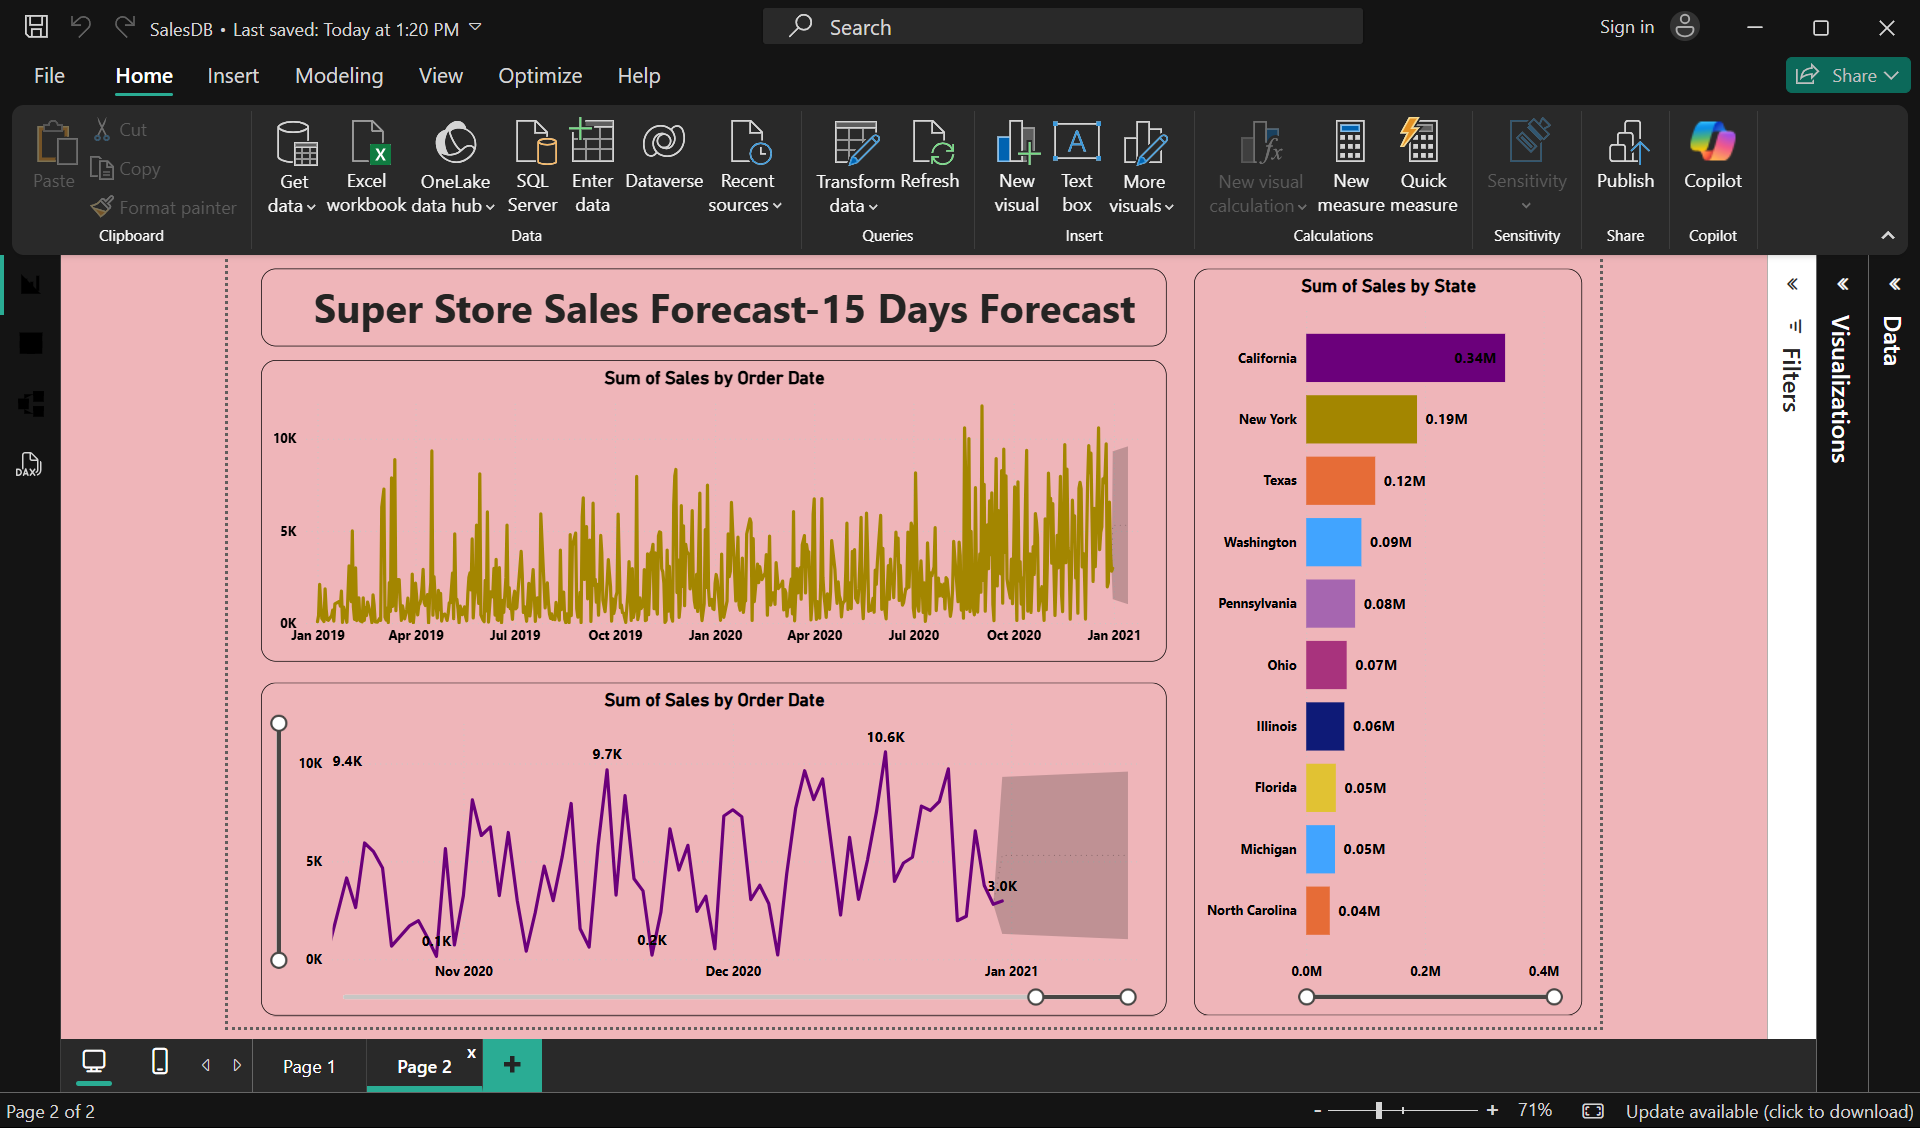

Layout of this report page (visuals, bound fields, positions):
{"tool":"powerbi","page":{"name":"Page 2","canvas":[1280,720],"ordinal":1},"visuals":[{"type":"lineChart","fields":{"Y":["Sum(SuperStore_Sales_Dataset.Sales)"],"Category":["SuperStore_Sales_Dataset.Order Date"]},"box":[30.3,398.2,844.9,310.4],"z":1},{"type":"clusteredBarChart","fields":{"Y":["Sum(SuperStore_Sales_Dataset.Sales)"],"Category":["SuperStore_Sales_Dataset.State"]},"box":[901,12.1,361.9,696.5],"z":2},{"type":"textbox","box":[30.3,12.1,844.9,72.7],"z":3},{"type":"lineChart","fields":{"Y":["Sum(SuperStore_Sales_Dataset.Sales)"],"Category":["SuperStore_Sales_Dataset.Order Date"]},"box":[30.3,98.4,844.9,281.6],"z":4}]}

Visuals, with their boxes on the page's 1280x720 design canvas (x1, y1, x2, y2). These are canvas units, not pixel positions in the 1920x1128 screenshot, which may show the page scaled, cropped or inside an application window:
lineChart - Sum(SuperStore_Sales_Dataset.Sales) x SuperStore_Sales_Dataset.Order Date: bbox=(30, 398, 875, 709)
clusteredBarChart - Sum(SuperStore_Sales_Dataset.Sales) x SuperStore_Sales_Dataset.State: bbox=(901, 12, 1263, 709)
textbox: bbox=(30, 12, 875, 85)
lineChart - Sum(SuperStore_Sales_Dataset.Sales) x SuperStore_Sales_Dataset.Order Date: bbox=(30, 98, 875, 380)
